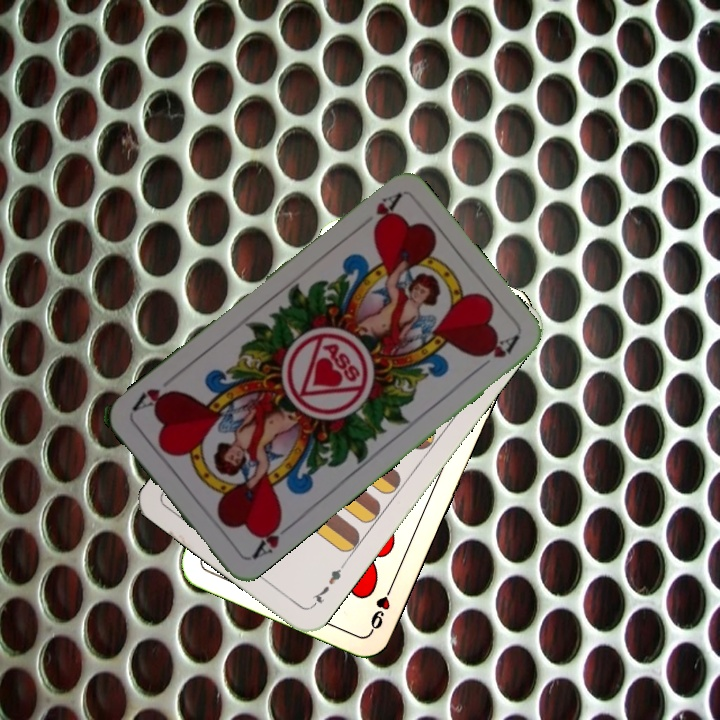E7: (308, 559, 348, 610)
H9: (366, 578, 397, 635)
HA: (247, 512, 296, 562), (353, 190, 404, 233)
